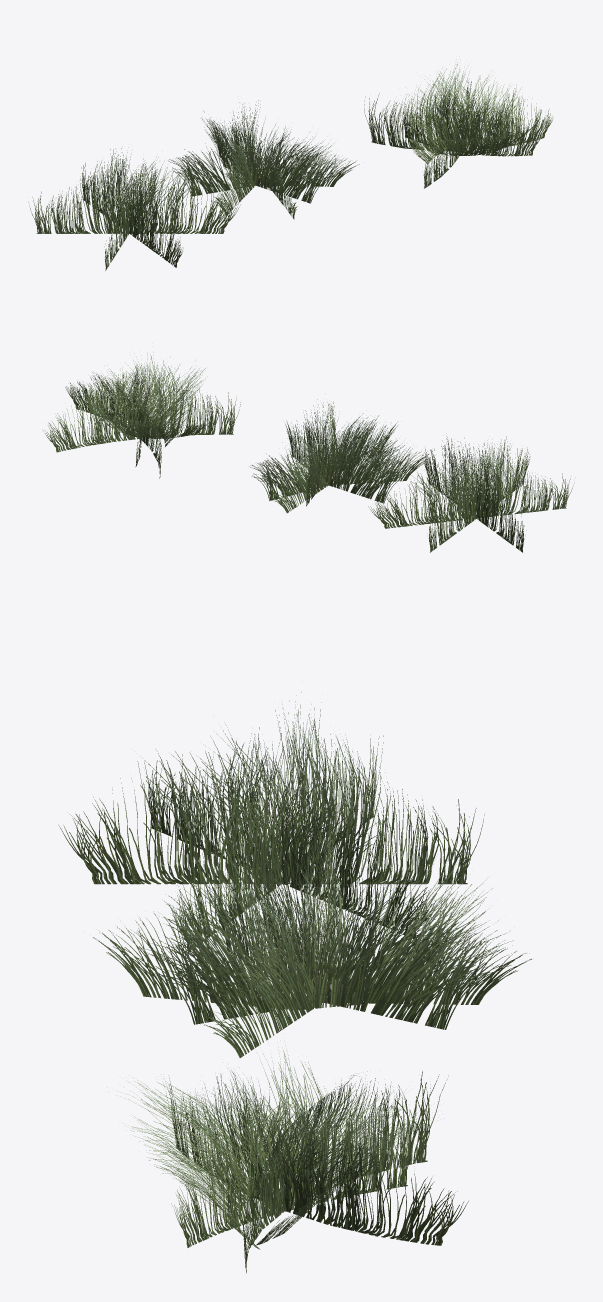
Rendered from GrassPlanesMeshes.FBX.
3 renders of one model, top to bottom at view 1: azimuth 30°, elevation 25°; view 2: azimuth 150°, elevation 25°; view 3: azimuth 270°, elevation 25°, orthographic. The views are drawn at different scales.
Visible parts, largest first — view 1: Grass_3, grass1, grass2; view 2: grass1, Grass_3, grass2; view 3: grass2, grass1, Grass_3.
Part boxes in pixels (x1,y1,x2,y2): Grass_3: [364, 59, 552, 188]; grass1: [28, 146, 240, 270]; grass2: [168, 100, 359, 219]; grass1: [368, 436, 575, 552]; Grass_3: [43, 352, 240, 478]; grass2: [250, 399, 433, 513]; grass2: [93, 817, 531, 1057]; grass1: [58, 692, 484, 951]; Grass_3: [116, 1047, 468, 1273].
Size of the model in its own units: 104 by 20.71 by 43.38.
